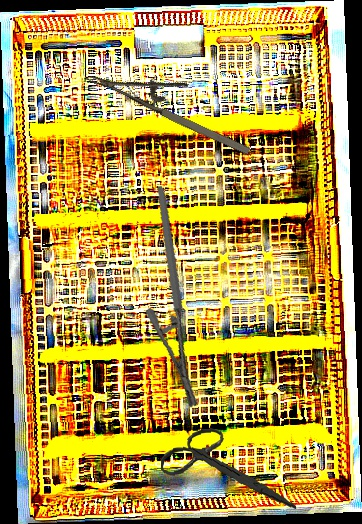Iris Scissors: (157, 420, 297, 523)
Needle Holder: (117, 184, 239, 411), (88, 43, 264, 160)
